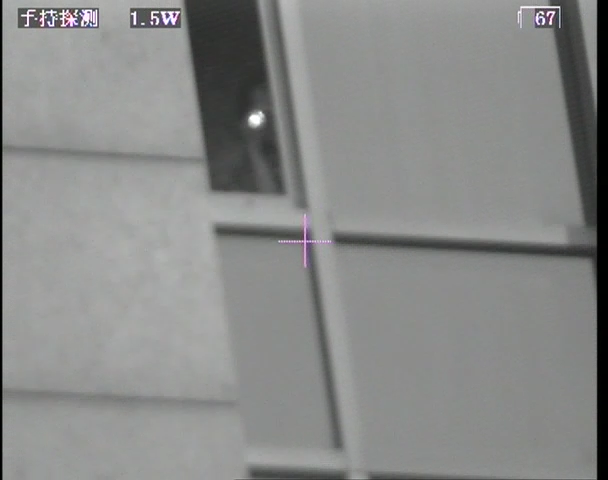my: (245, 111, 265, 130)
